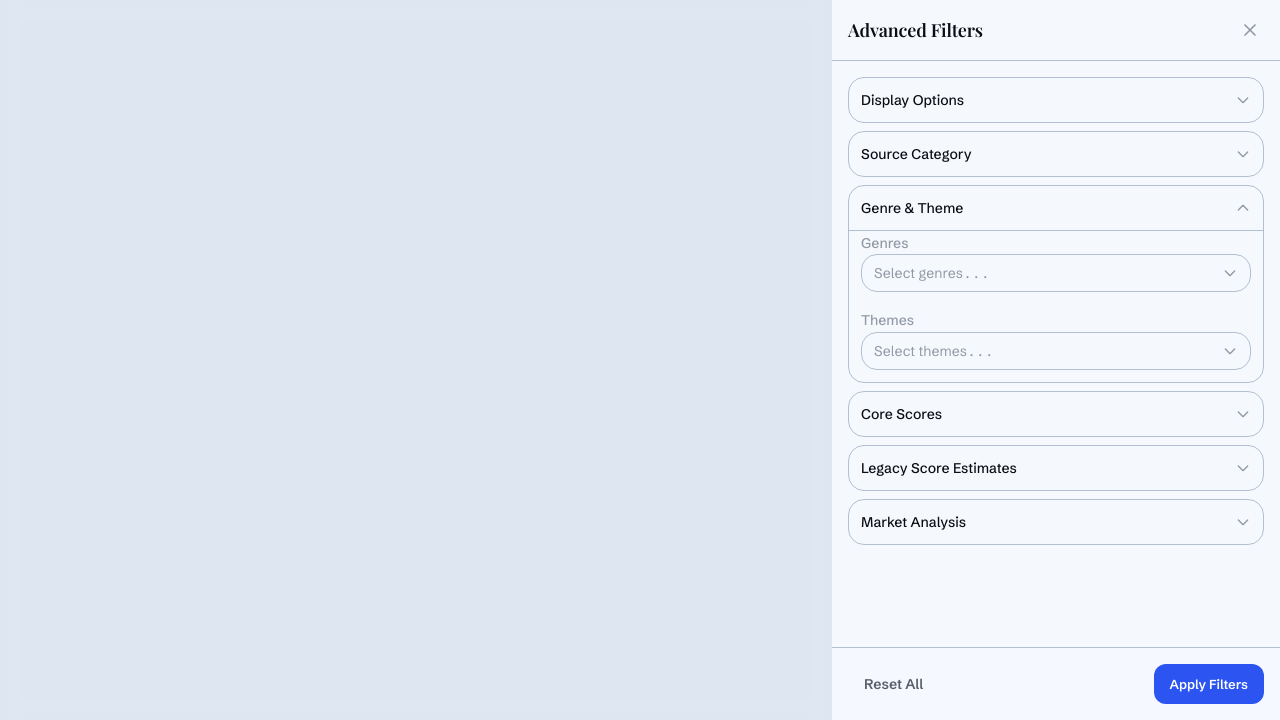
Test: FilterPanel › Advanced disclosure › clicking Advanced button reveals dimension slider content
The image size is (1280, 720).
Open Legacy Score Estimates section
Click the button "Legacy Score Estimates": (939, 468) [849,446,1263,490]
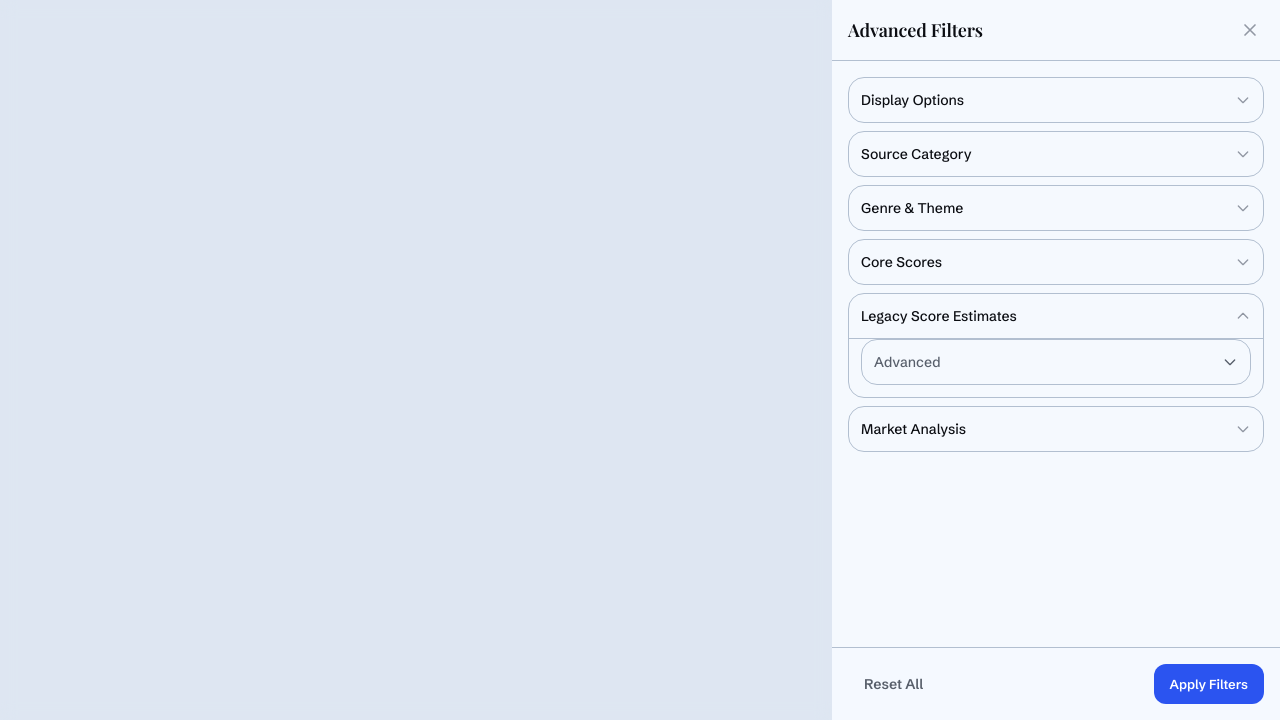
Check: the text "Concept" is not shown
Click the "Advanced" toggle button
Click the button "Advanced": (907, 362) [862,340,1250,384]
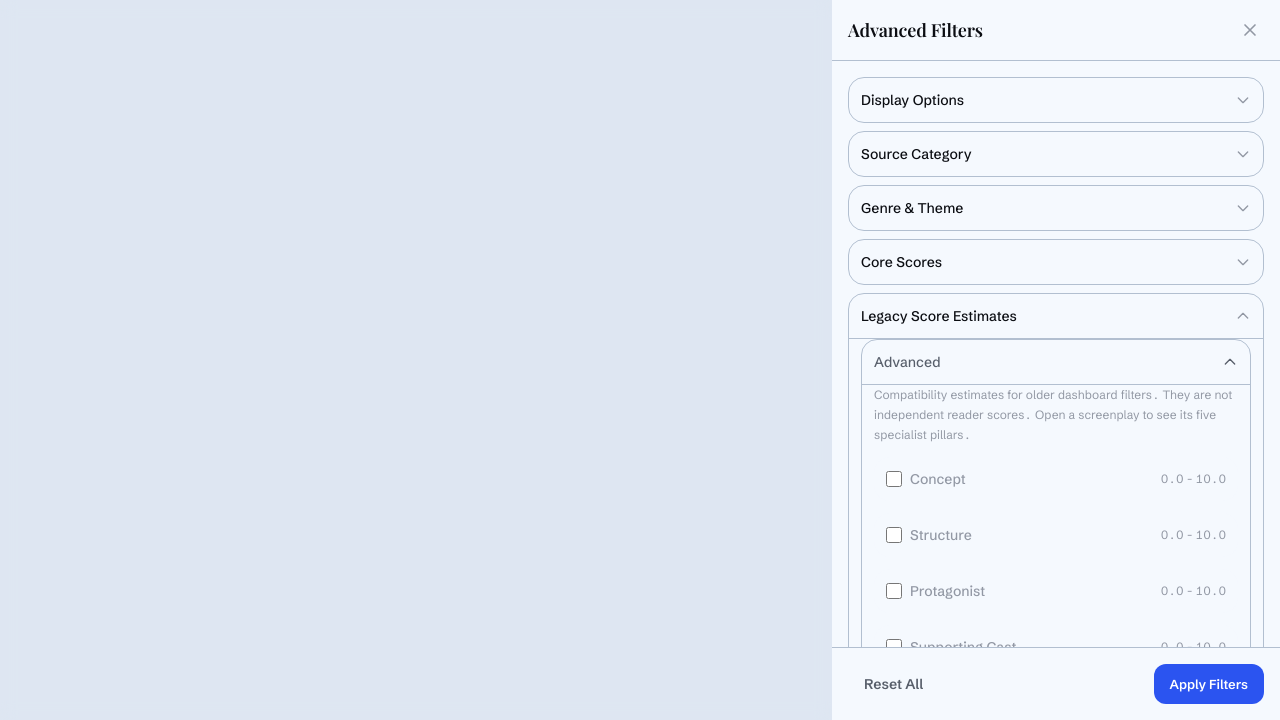
Check: the text "Concept" is shown, box [910,469,966,489]
